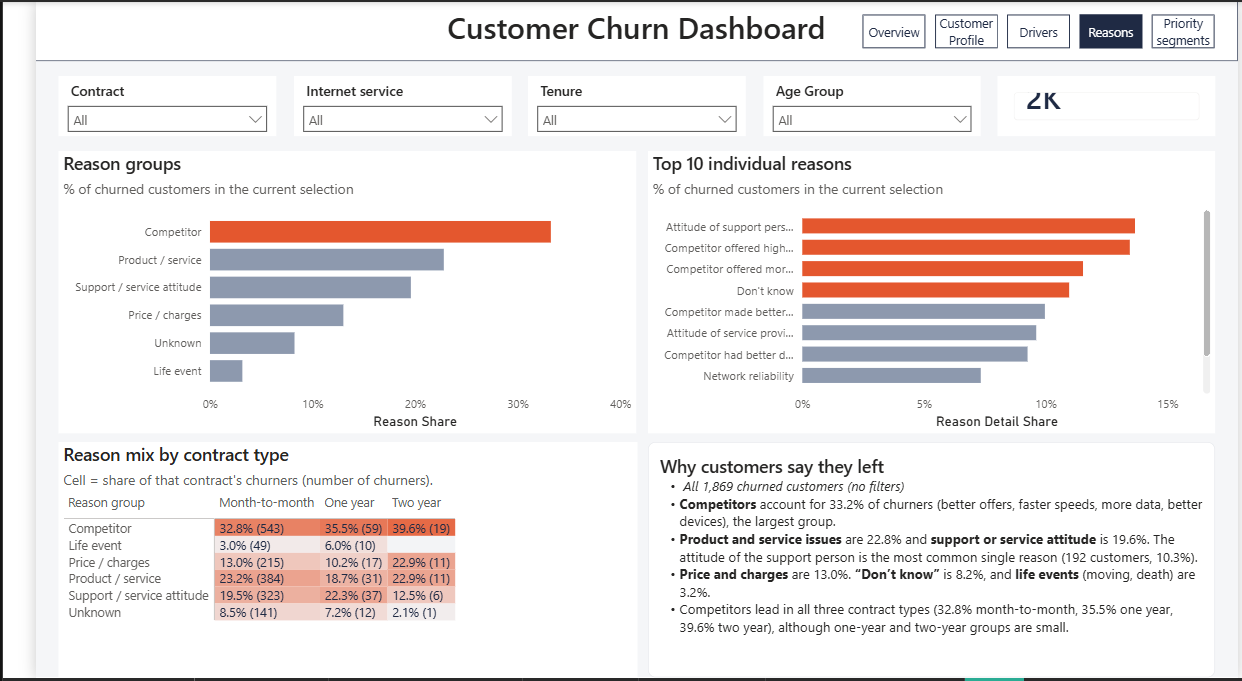

What the dashboard file says about the page in this screenshot:
{"tool":"powerbi","page":{"name":"Reasons","canvas":[1280,720],"ordinal":3},"visuals":[{"type":"shape","box":[0,0,1280,64],"z":0},{"type":"textbox","box":[0,0,1279,63],"z":1000},{"type":"pageNavigator","box":[880,14,376,36],"z":2000},{"type":"slicer","fields":{"Values":["Customers.contract"]},"box":[24,80,232,64],"z":3000},{"type":"slicer","fields":{"Values":["Customers.internet_service"]},"box":[274.8,80,232,64],"z":4000},{"type":"slicer","fields":{"Values":["Customers.tenure_band"]},"box":[524,80,232,64],"z":5000},{"type":"slicer","fields":{"Values":["Customers.Age Group"]},"box":[774.9,80,231.7,63.9],"z":6000},{"type":"cardVisual","fields":{"Data":["Customers.Churned Customers"]},"box":[1024.1,71.9,231.7,79.9],"z":7000},{"type":"clusteredBarChart","title":"Reason groups","fields":{"Category":["Customers.churn_reason_group"],"Y":["Customers.Reason Share"]},"box":[24,159.8,615.1,300.4],"z":8000},{"type":"clusteredBarChart","title":"Top 10 individual reasons","fields":{"Category":["Customers.churn_reason"],"Y":["Customers.Reason Detail Share"]},"box":[651.8,159.8,603.9,300.4],"z":9000},{"type":"pivotTable","title":"Reason mix by contract type","fields":{"Rows":["Customers.churn_reason_group"],"Columns":["Customers.contract"],"Values":["Customers.Reason Cell"]},"box":[24,469.7,616.7,250.8],"z":10000},{"type":"textbox","box":[651.8,469.7,603.9,250.8],"z":11000}]}

Visuals, with their boxes in screenshot pixels (x1, y1, x2, y2), scaled from the page's 1280x720 canvas onto the 1242x681 screenshot:
shape: {"left": 0, "top": 0, "right": 1241, "bottom": 61}
textbox: {"left": 0, "top": 0, "right": 1241, "bottom": 60}
pageNavigator: {"left": 854, "top": 13, "right": 1219, "bottom": 47}
slicer - Customers.contract: {"left": 23, "top": 76, "right": 248, "bottom": 136}
slicer - Customers.internet_service: {"left": 267, "top": 76, "right": 492, "bottom": 136}
slicer - Customers.tenure_band: {"left": 508, "top": 76, "right": 734, "bottom": 136}
slicer - Customers.Age Group: {"left": 752, "top": 76, "right": 977, "bottom": 136}
cardVisual - Customers.Churned Customers: {"left": 994, "top": 68, "right": 1219, "bottom": 144}
"Reason groups" clusteredBarChart: {"left": 23, "top": 151, "right": 620, "bottom": 435}
"Top 10 individual reasons" clusteredBarChart: {"left": 632, "top": 151, "right": 1218, "bottom": 435}
"Reason mix by contract type" pivotTable: {"left": 23, "top": 444, "right": 622, "bottom": 680}
textbox: {"left": 632, "top": 444, "right": 1218, "bottom": 680}
